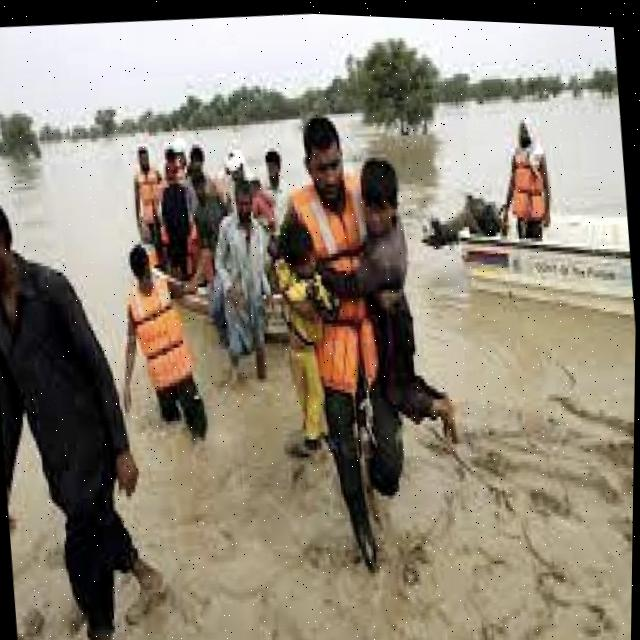civilian: (0, 149, 176, 640), (344, 147, 446, 443), (199, 173, 287, 405), (261, 218, 342, 443)
rescuer: (265, 98, 437, 599), (78, 229, 243, 457), (479, 88, 594, 277), (111, 120, 181, 258)
